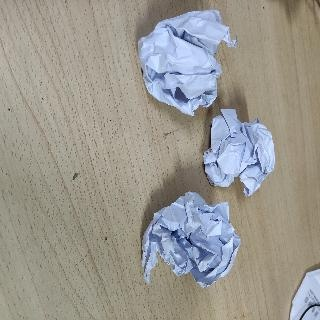8/可回收垃圾/纸: (136, 8, 237, 116), (141, 190, 240, 288), (204, 109, 275, 196)
